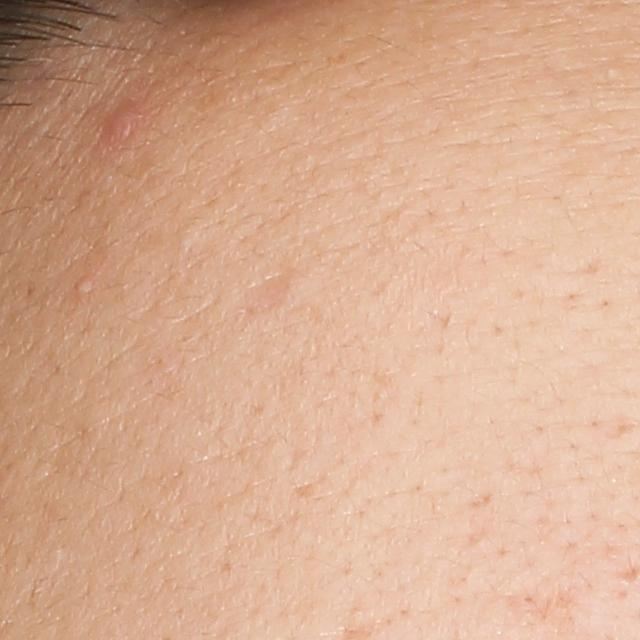atrophic_scar: (236, 262, 305, 316)
papule: (103, 102, 139, 144), (73, 273, 95, 297)
